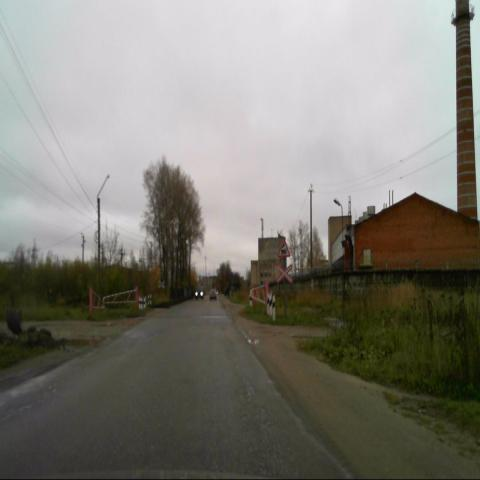1_2: (277, 236, 290, 258)
